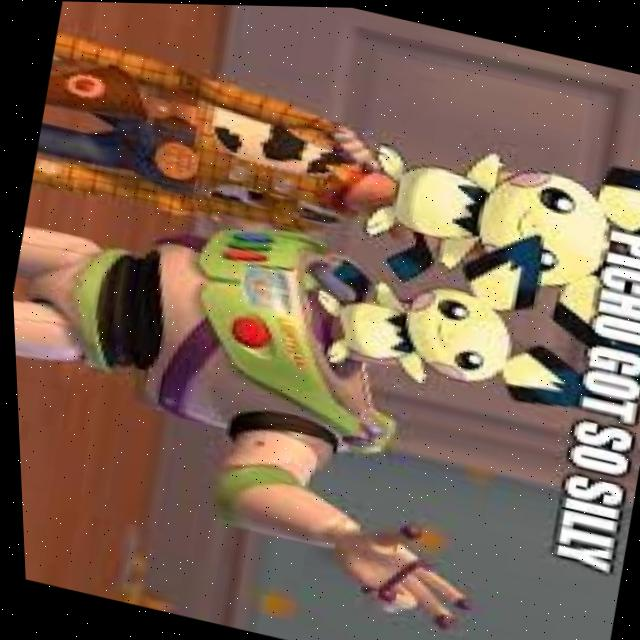pichu: (294, 207, 615, 450), (331, 123, 640, 325)
